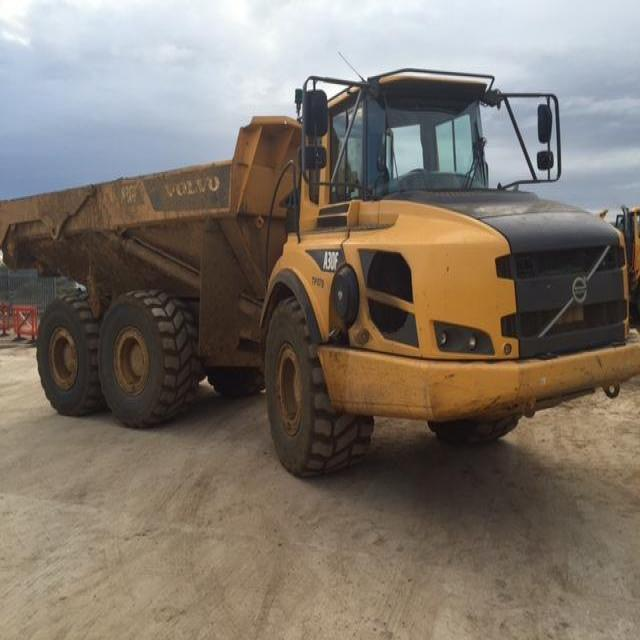dump_truck: (11, 57, 633, 516)
